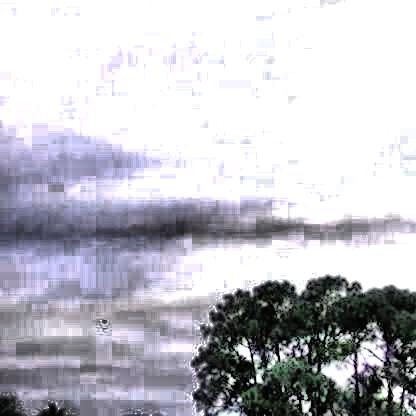golfball: (99, 314, 103, 320)
